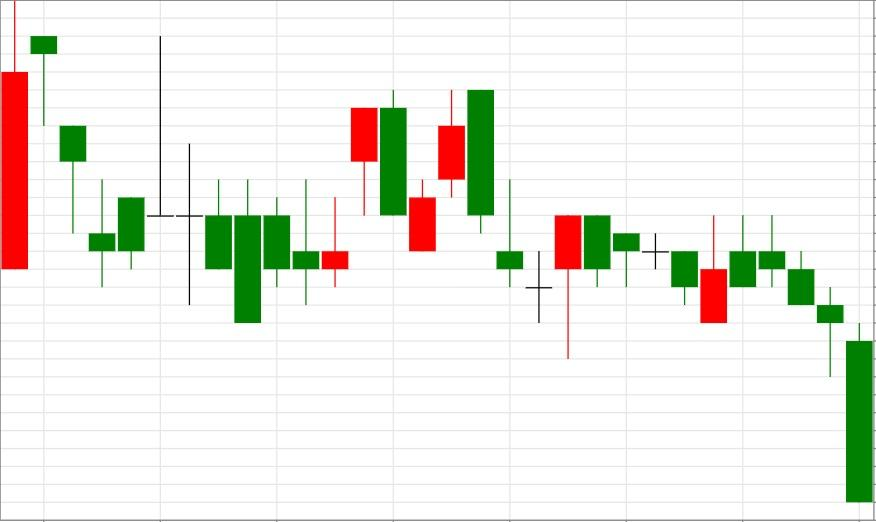bearish_engulfing_fall: (234, 89, 408, 323)
three_black_crows_fall: (699, 214, 844, 377)
